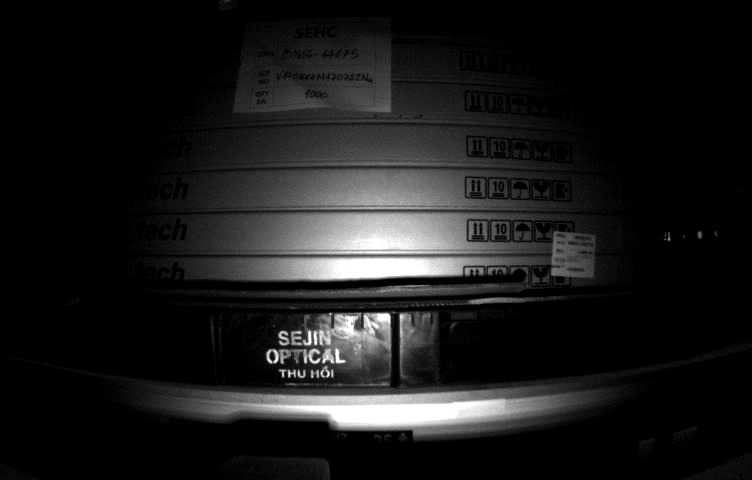True Barcode: (549, 230, 597, 283)
